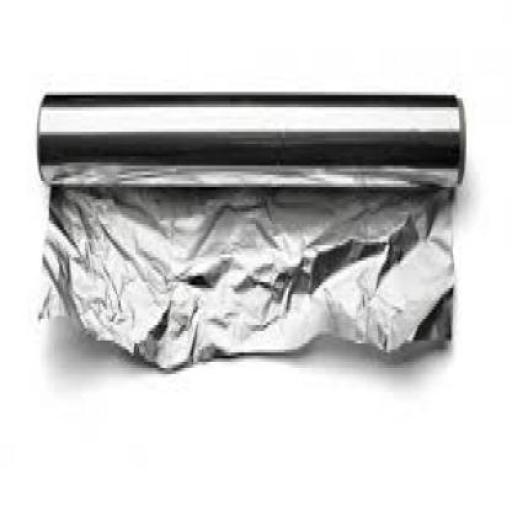metal: (34, 92, 464, 371)
